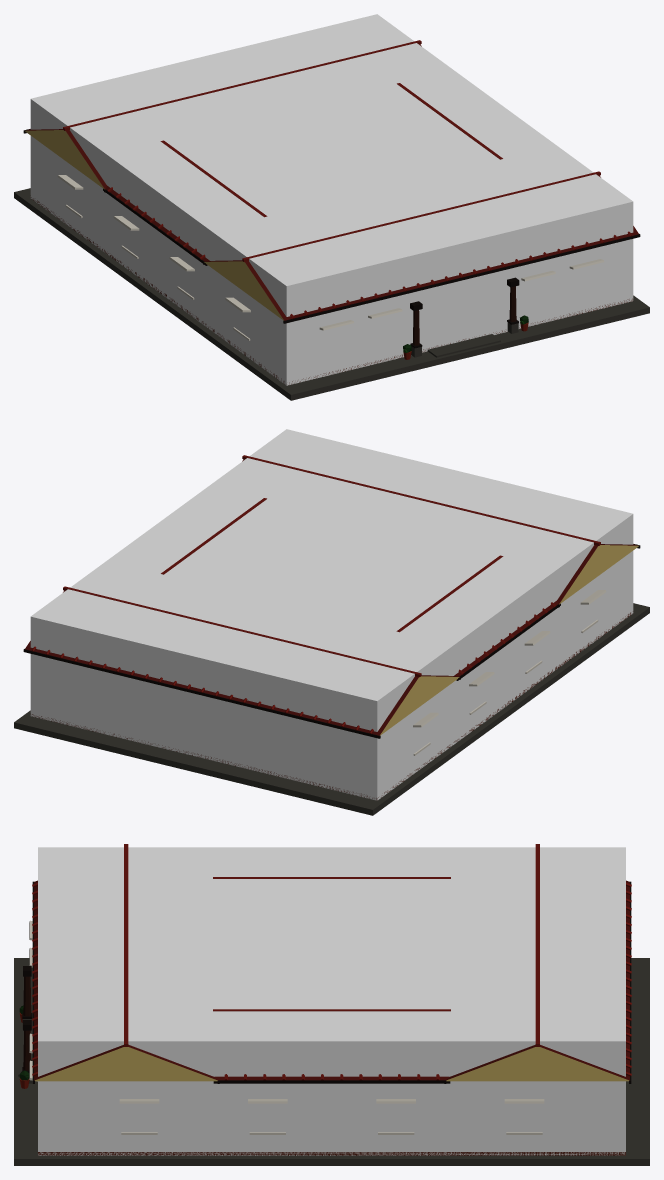
File: CHN_015_nalukettu.glb
The picture shows the model from 3 angles, top to bottom: view 1: azimuth 30°, elevation 25°; view 2: azimuth 150°, elevation 25°; view 3: azimuth 270°, elevation 25°; orthographic projection. The views are drawn at different scales.
Parts seen in each view (by area): view 1: COL_Main, LOD0; view 2: COL_Main, LOD0; view 3: COL_Main, LOD0.
Boxes of the visible parts, x1,y1,x2,y2 form: COL_Main: [30, 14, 633, 385]; LOD0: [14, 40, 649, 400]; COL_Main: [30, 429, 633, 800]; LOD0: [14, 455, 649, 815]; COL_Main: [38, 847, 625, 1155]; LOD0: [14, 844, 649, 1165].
Size of what is drawn, in the model's own units: 18.05 by 5.01 by 23.8.
